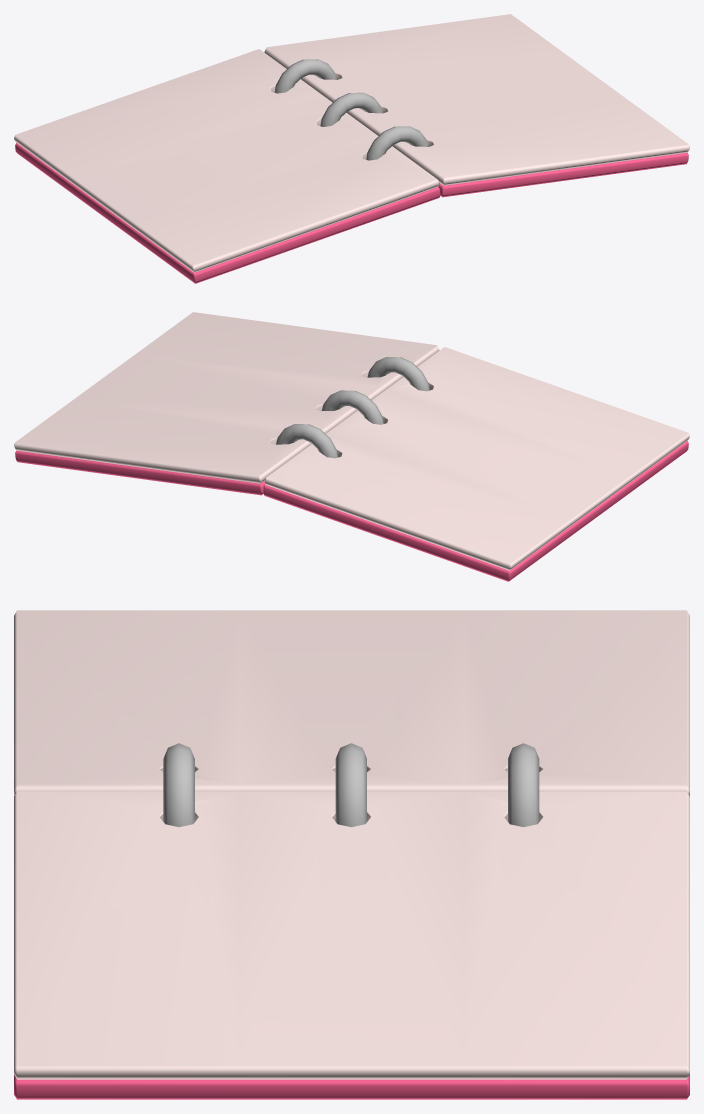
Rendered from Public_8_Notebook_1.glb.
The picture shows the model from 3 angles, top to bottom: view 1: azimuth 30°, elevation 25°; view 2: azimuth 150°, elevation 25°; view 3: azimuth 270°, elevation 25°; orthographic projection. The views are drawn at different scales.
Parts seen in each view (by area): view 1: Public_8_Notebook_1; view 2: Public_8_Notebook_1; view 3: Public_8_Notebook_1.
Part boxes in pixels (bbox=[...]): Public_8_Notebook_1: bbox=[14, 14, 689, 283]; Public_8_Notebook_1: bbox=[14, 312, 689, 581]; Public_8_Notebook_1: bbox=[14, 610, 689, 1099].
Size of the model in its own units: 2.16 by 0.2747 by 1.35.
1 material, 1 textured.
